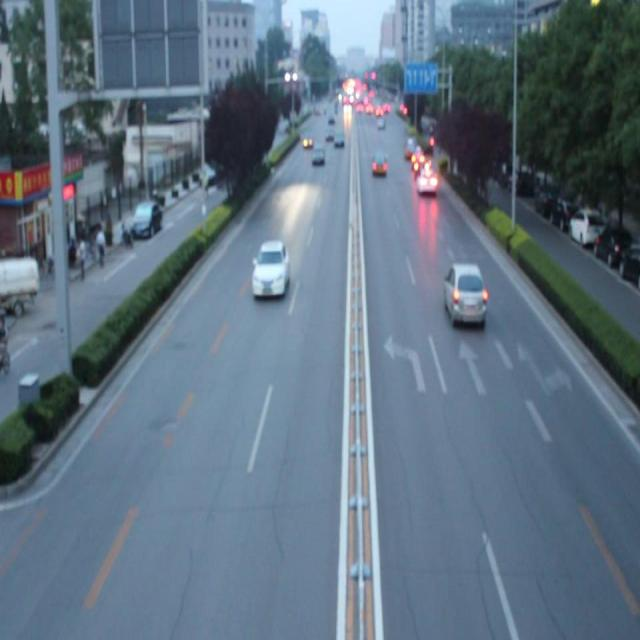car: (444, 262, 486, 326), (251, 240, 289, 298)
